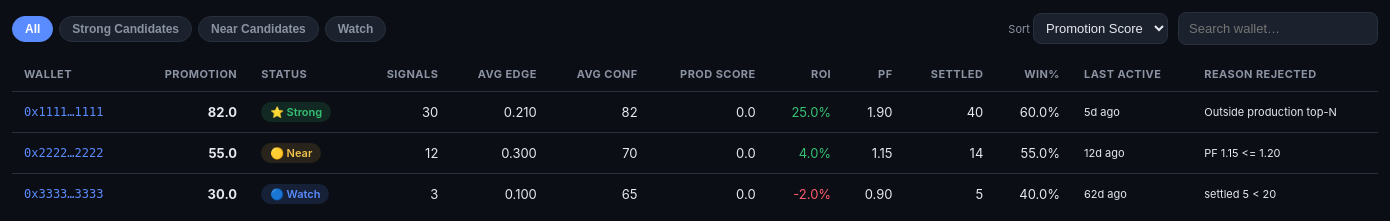
PromotionCandidatesTable › filters by status (Strong only)
Click the button "Strong Candidates" at (126, 28), box left=59, top=16, right=192, bottom=42
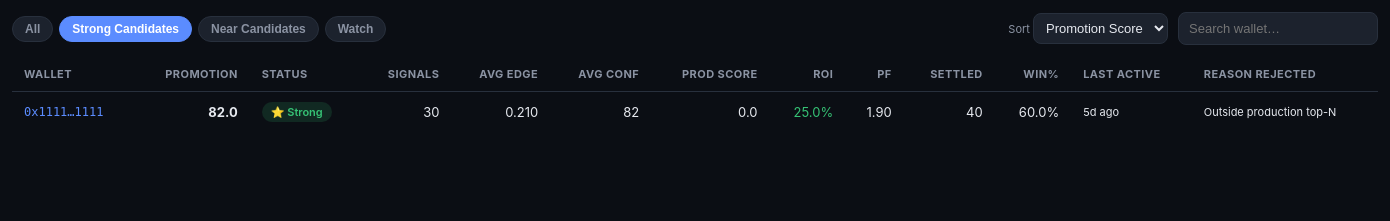
Expected: the text "⭐ Strong" is shown, left=262, top=102, right=332, bottom=122
Result: the number of rows with test id "promo-row" is 1 at left=12, top=92, right=1378, bottom=132
